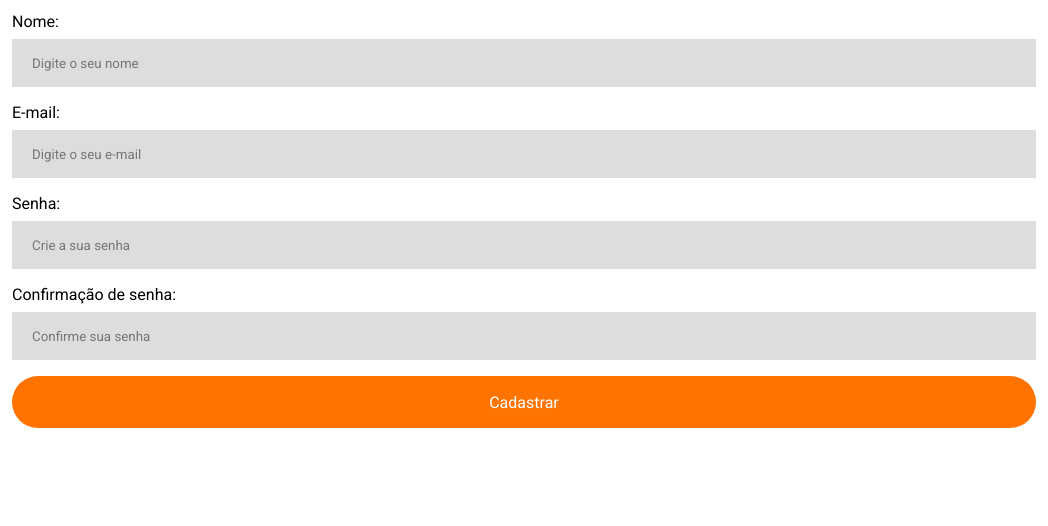
<RegisterForm /> › should show error when password has less then 8 char or doesn't match
The width and height of the screenshot is (1048, 526).
Expected: the field with placeholder "Digite o seu e-mail" is shown, x1=12 y1=130 x2=1036 y2=178
Expected: the password field with placeholder "Crie a sua senha" is shown, x1=12 y1=221 x2=1036 y2=269
Type "José da Silva" into the field with placeholder "Digite o seu nome" at (524, 63), box x1=12 y1=39 x2=1036 y2=87
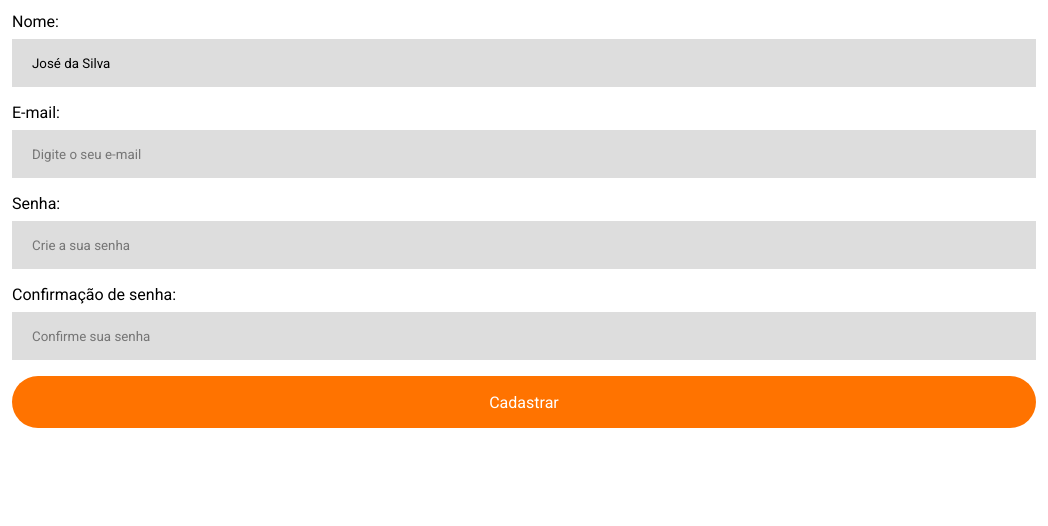
Type "josedasilva" into the field with placeholder "Digite o seu e-mail" at (524, 154), box x1=12 y1=130 x2=1036 y2=178
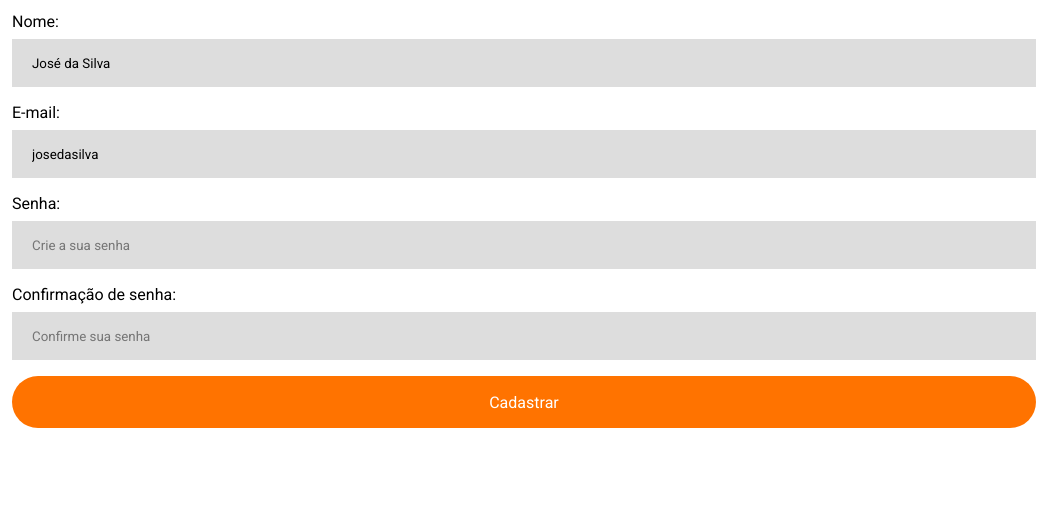
Type "1234" into the password field with placeholder "Crie a sua senha" at (524, 245), box x1=12 y1=221 x2=1036 y2=269
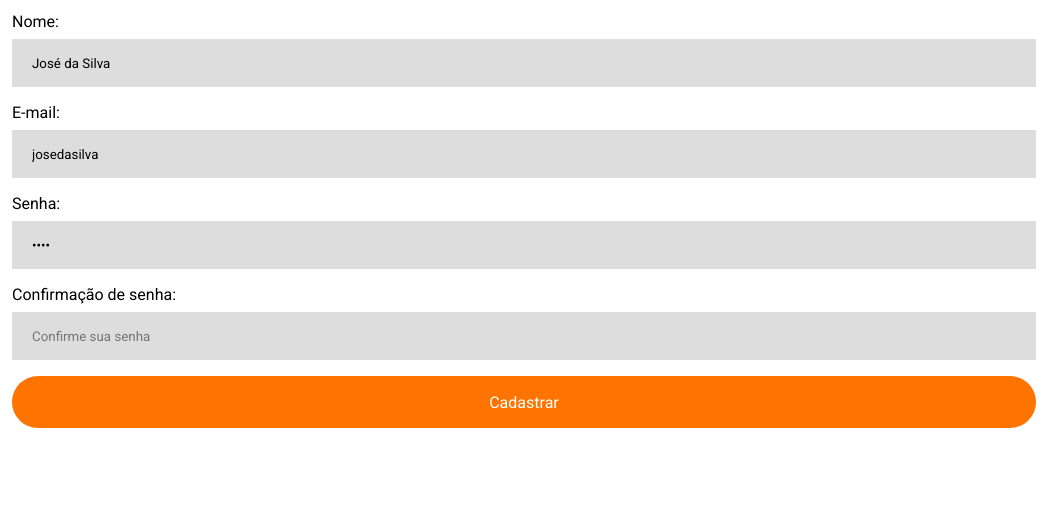
Type "@12Patinhos" into the password field with placeholder "Confirme sua senha" at (524, 336), box x1=12 y1=312 x2=1036 y2=360
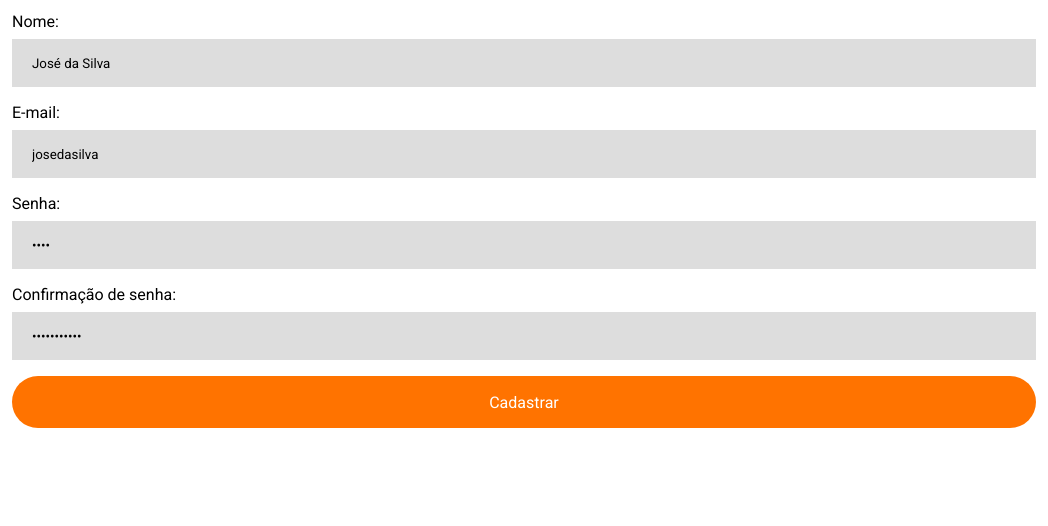
Submit the form from the button "Cadastrar", box x1=12 y1=376 x2=1036 y2=428
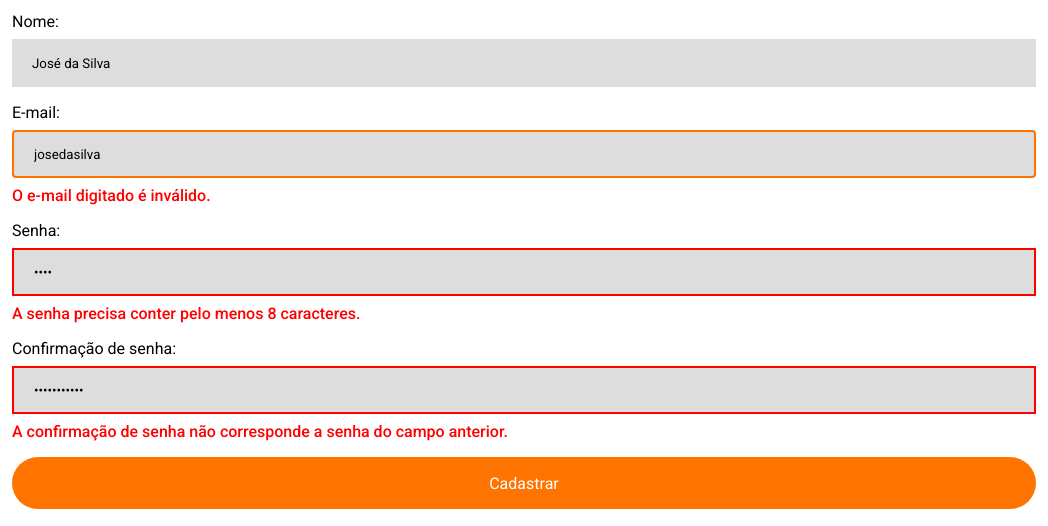
Expected: the text "A senha precisa conter pelo menos 8 caracteres." is shown, x1=12 y1=304 x2=360 y2=323
Expected: the text "A confirmação de senha não corresponde a senha do campo anterior." is shown, x1=12 y1=422 x2=508 y2=441
